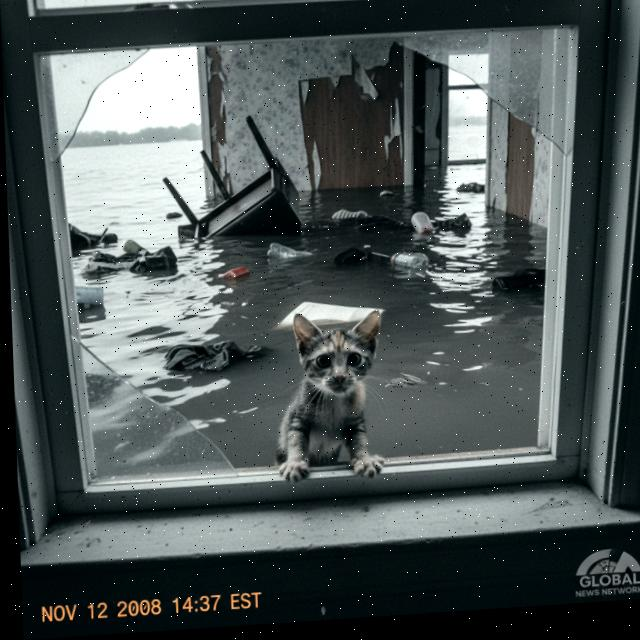cat: (260, 300, 396, 492)
